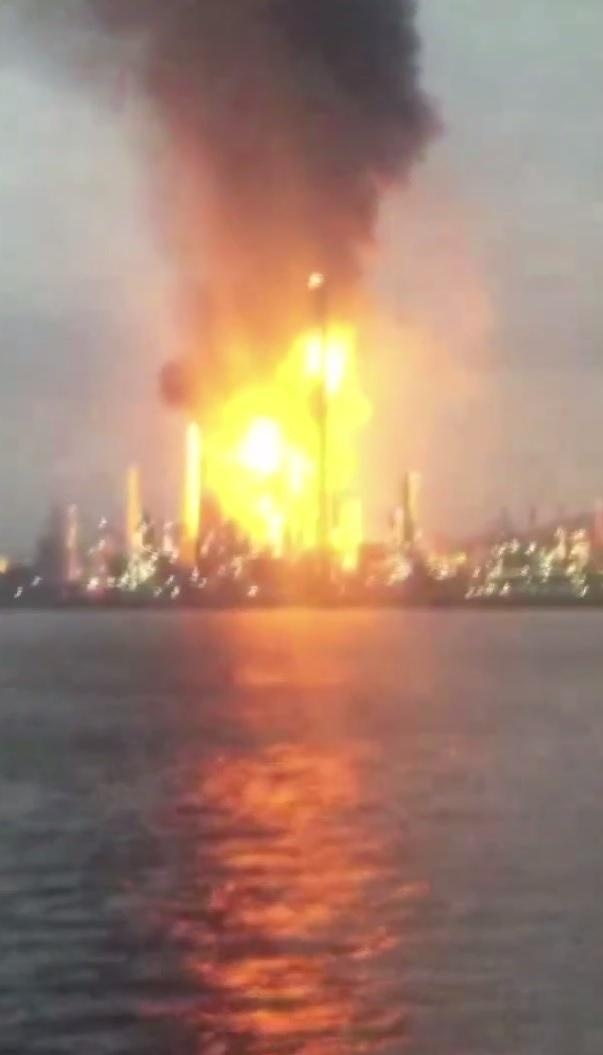fire: (173, 303, 374, 576)
